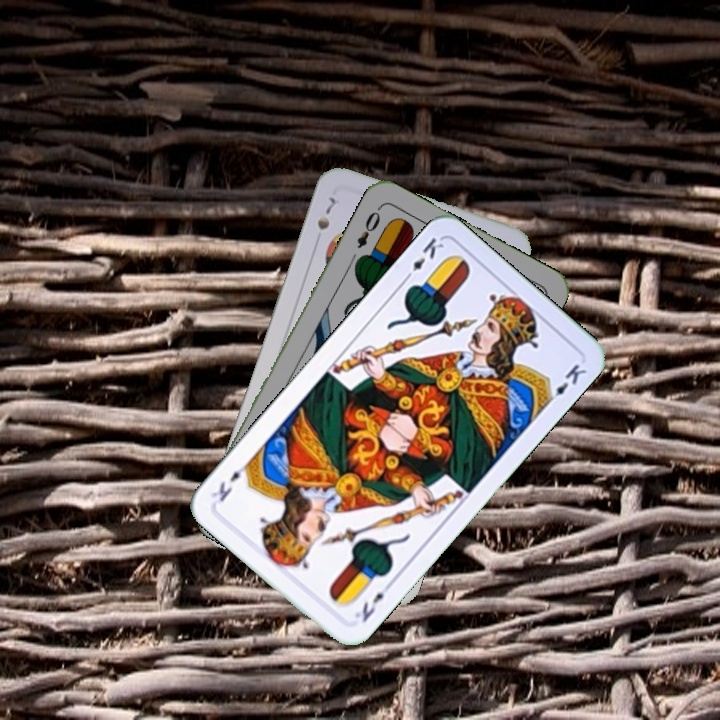EK: (399, 233, 447, 284), (350, 577, 395, 625)
EO: (353, 203, 383, 251)
S7: (313, 192, 338, 233)
